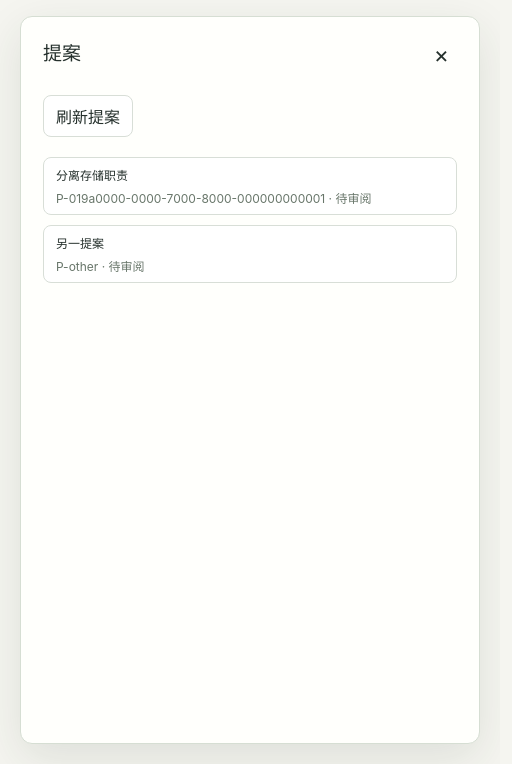
updates the accepted approve result in the list and prevents acting again after switching proposals
Click the button "分离存储职责 P-019a0000-0000-7000-8000-000000000001 · 待审阅": (92, 175) [43,157,457,215]
(page scrolled)
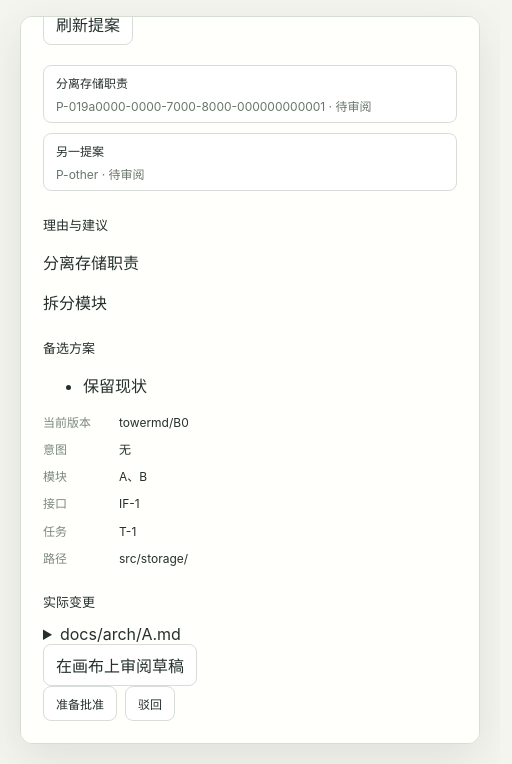
Click the button "准备批准": (80, 704) [43,686,117,721]
(page scrolled)
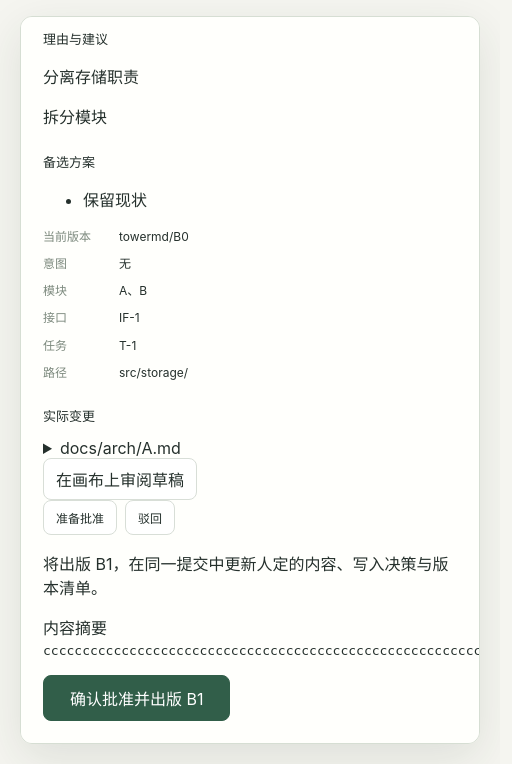
Click the button "确认批准并出版 B1": (137, 698) [43,675,230,721]
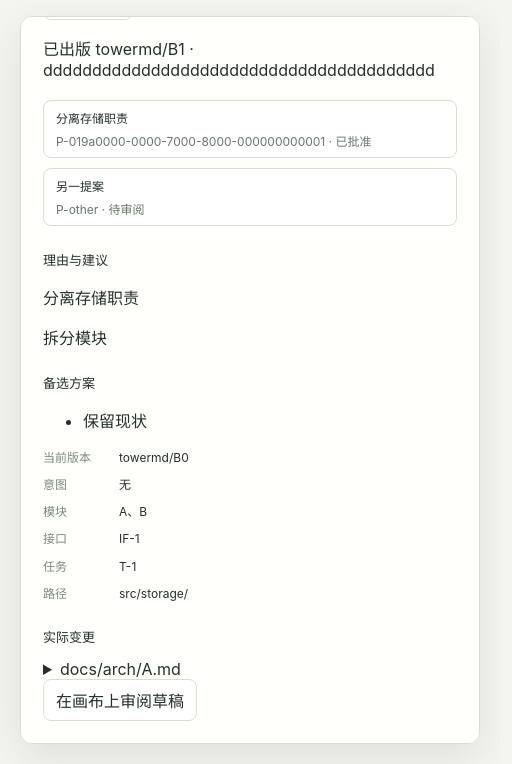
Check: the text "已出版 towermd/B1" is shown, box [43,39,435,80]
Click the button "另一提案 P-other · 待审阅": (80, 186) [43,168,457,226]
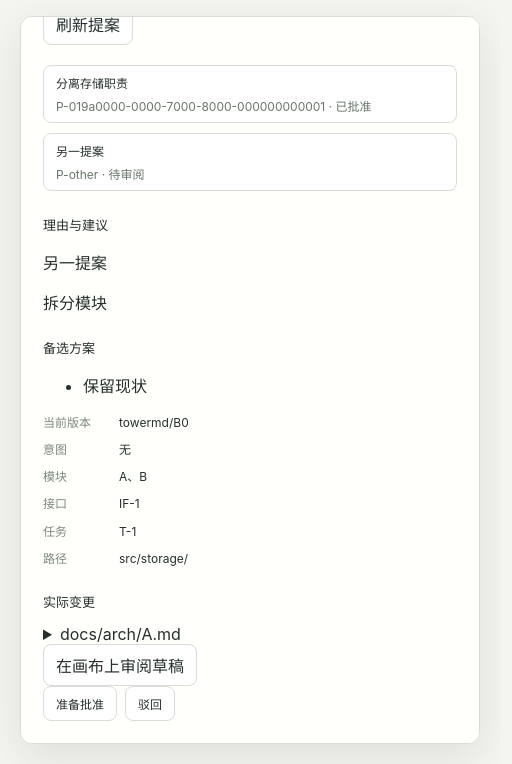
Check: the button "准备批准" is shown, box [43,686,117,721]
Click the button "分离存储职责 P-019a0000-0000-7000-8000-000000000001 · 已批准": (92, 83) [43,65,457,123]
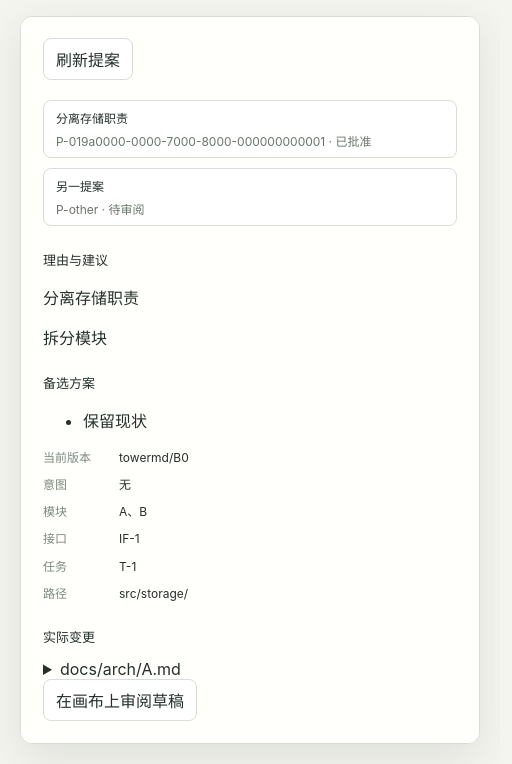
Check: the button "准备批准" is gone
Check: the button "驳回" is gone
